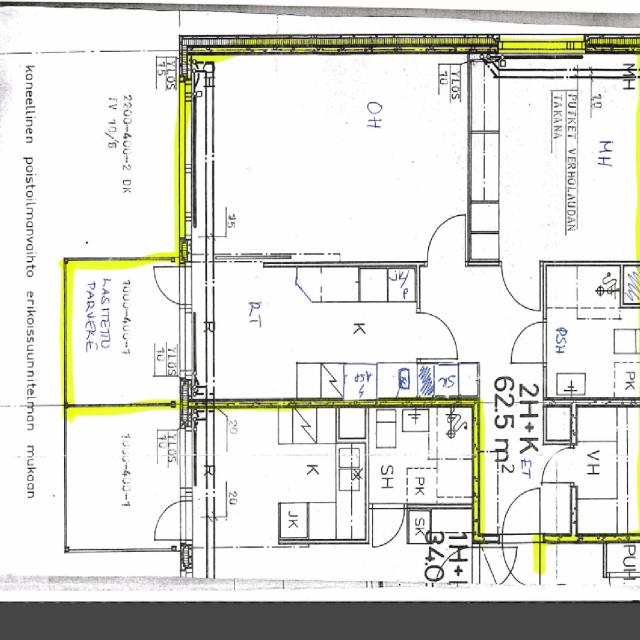door: (502, 533, 540, 590), (502, 485, 540, 542), (501, 259, 540, 312), (426, 211, 465, 264), (416, 312, 458, 358), (146, 265, 192, 305), (538, 447, 578, 486), (510, 322, 548, 362)
